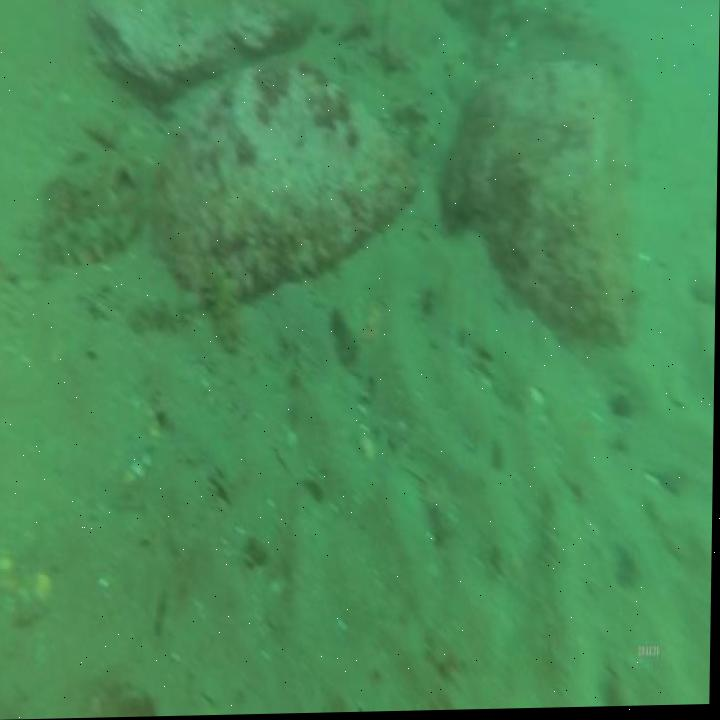holothurian: (47, 206, 141, 273), (200, 251, 248, 361)
